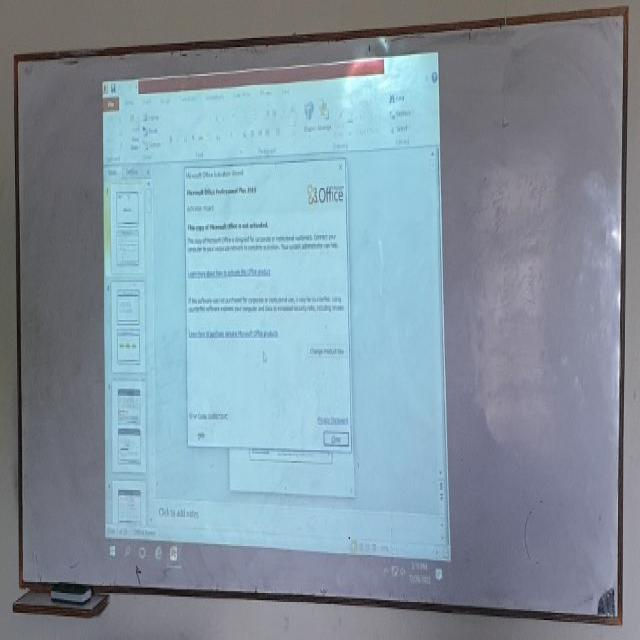Slide: (99, 48, 455, 592)
White-board: (14, 12, 624, 616)
